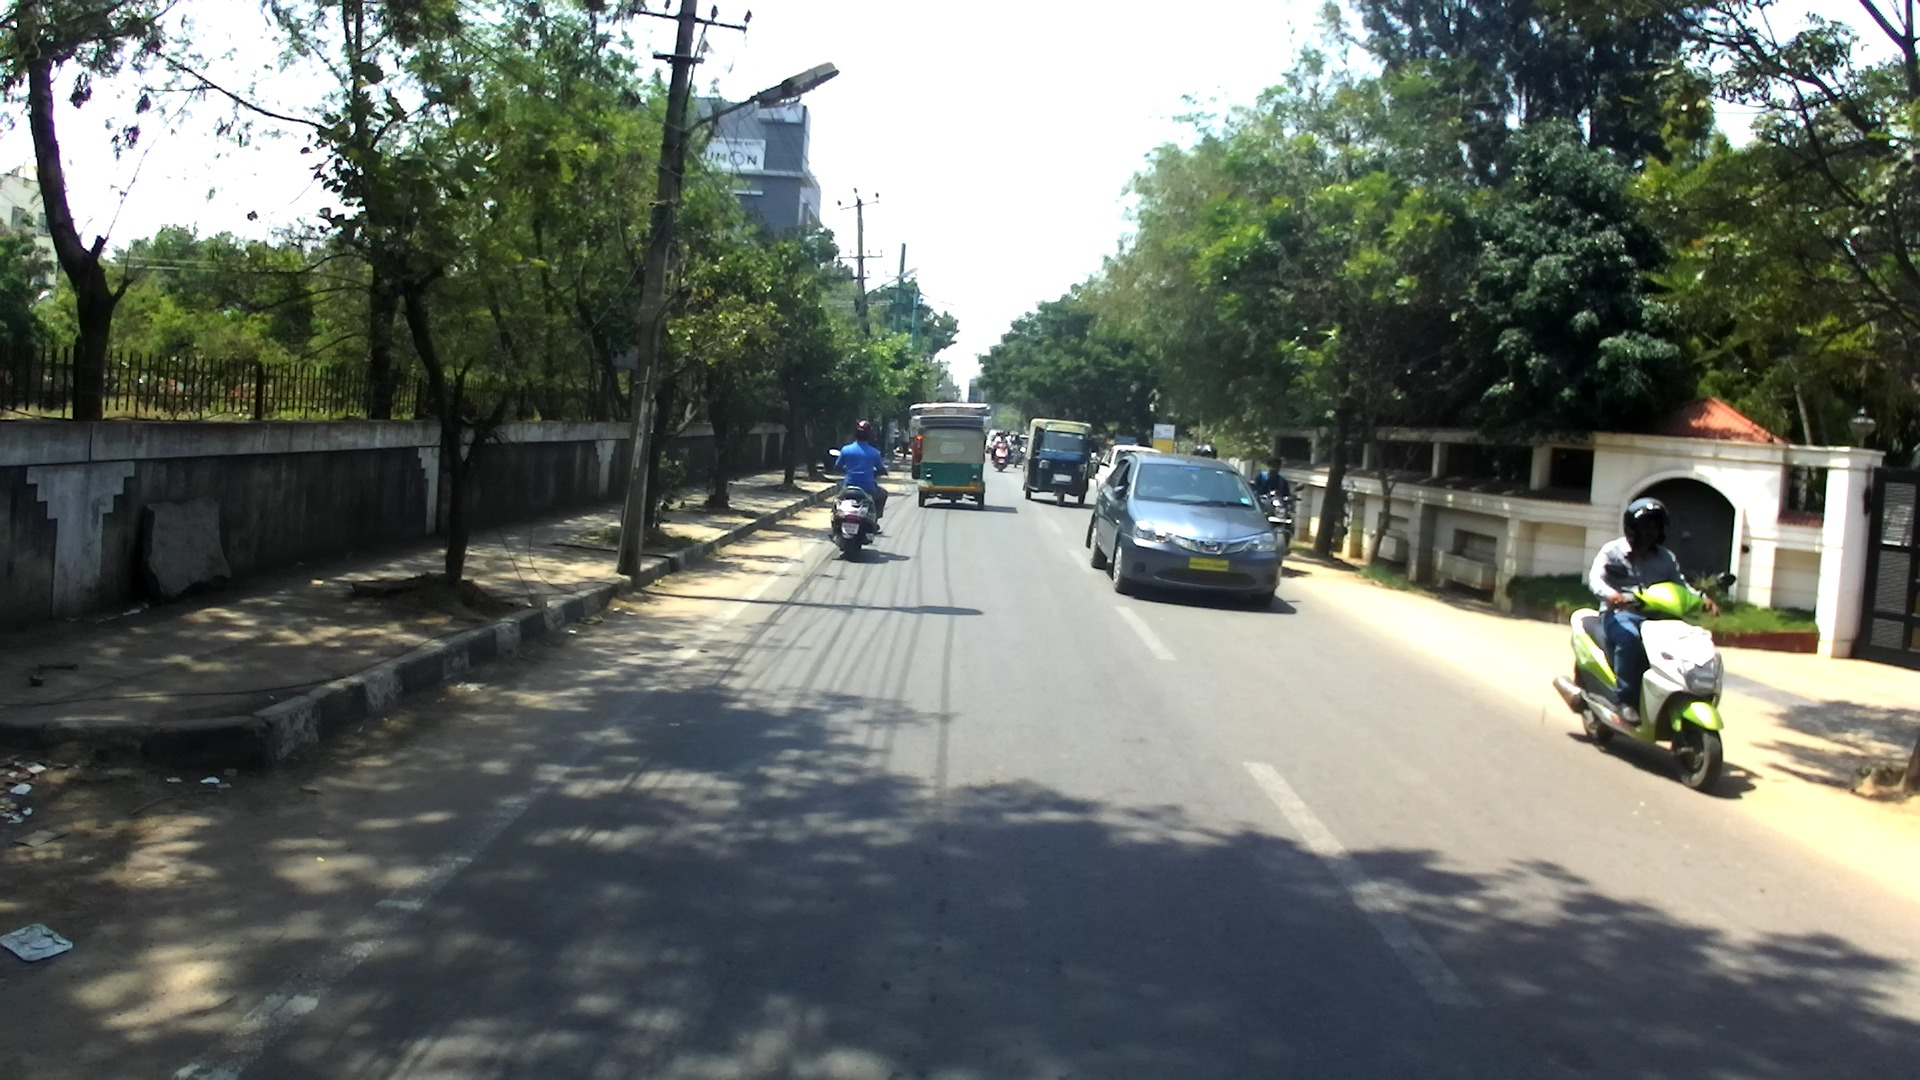autorickshaw: (1022, 416, 1094, 505), (917, 427, 986, 508)
car: (1086, 452, 1282, 605), (1096, 444, 1161, 493), (911, 428, 928, 479), (985, 430, 1006, 453), (1012, 434, 1033, 458)
motorcycle: (1552, 564, 1736, 791), (828, 448, 887, 558), (1250, 480, 1304, 566), (993, 442, 1013, 472), (1008, 444, 1024, 468), (1088, 451, 1102, 478)
person: (899, 423, 912, 459)
rider: (1588, 497, 1720, 725), (836, 419, 887, 532), (1255, 457, 1293, 555), (992, 430, 1008, 463), (1010, 432, 1024, 454), (1089, 438, 1100, 464), (1202, 444, 1217, 459), (1004, 431, 1014, 445), (1192, 444, 1203, 456)
